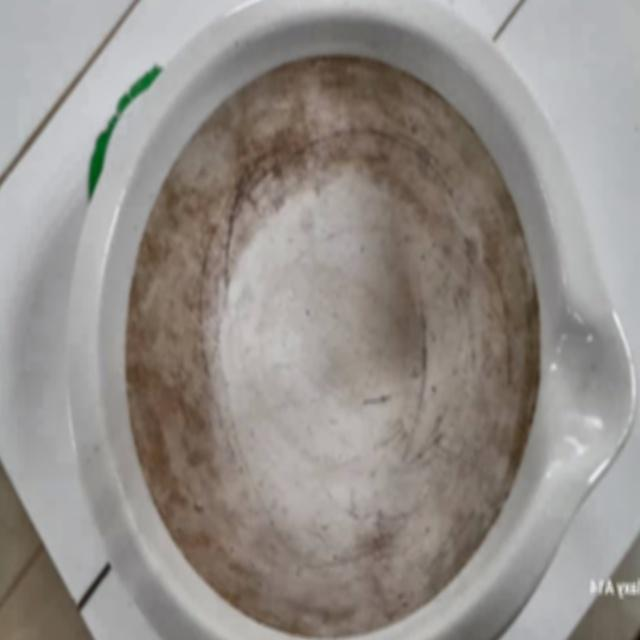Mortar and Pestle: (69, 6, 636, 639)
